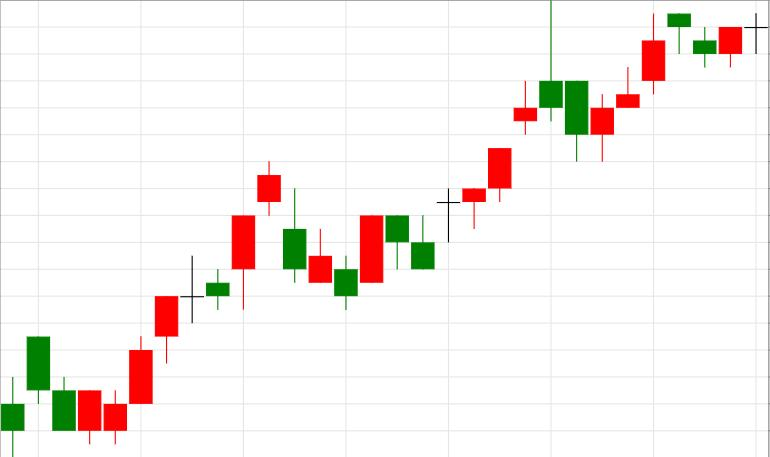shooting_star_fall: (360, 1, 562, 282)
